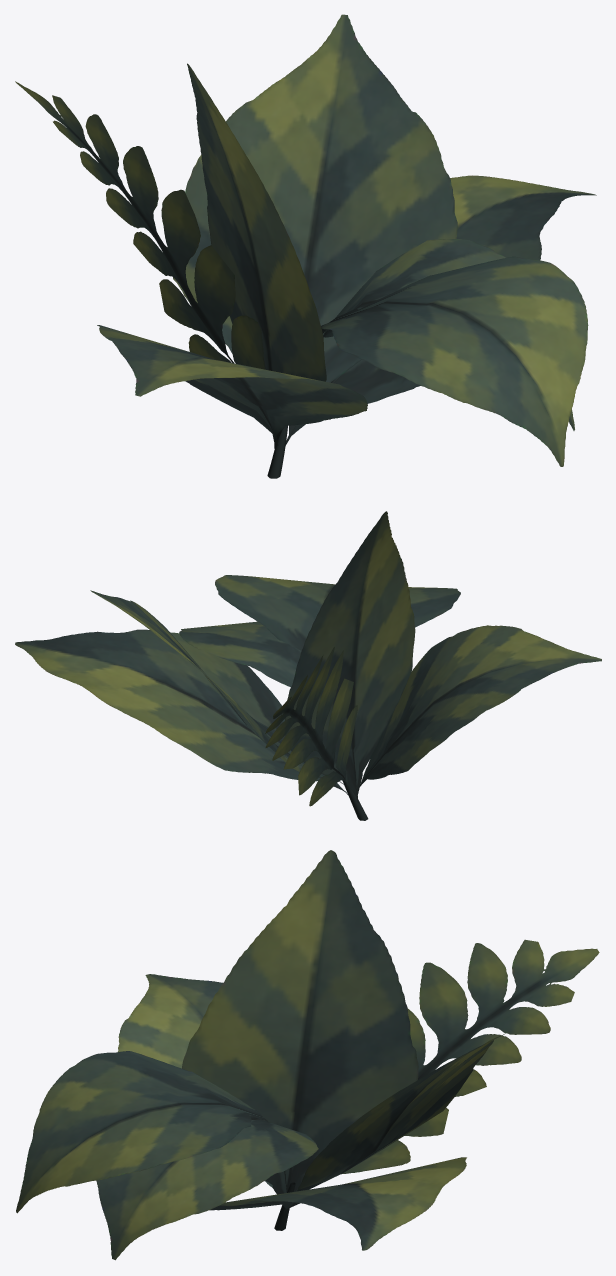
The model's file is SM_FR_BushSideSweep.fbx.
The picture shows the model from 3 angles, top to bottom: view 1: azimuth 30°, elevation 25°; view 2: azimuth 150°, elevation 25°; view 3: azimuth 270°, elevation 25°; orthographic projection. The views are drawn at different scales.
Parts seen in each view (by area): view 1: SM_FR_BushSideSweep; view 2: SM_FR_BushSideSweep; view 3: SM_FR_BushSideSweep.
Part boxes in pixels (<box>): SM_FR_BushSideSweep: <box>15,14,596,478</box>; SM_FR_BushSideSweep: <box>15,511,601,820</box>; SM_FR_BushSideSweep: <box>16,850,599,1260</box>.
Bounding box in the file's own units: 1.95 × 1.28 × 1.92.
1 material, 1 textured.
